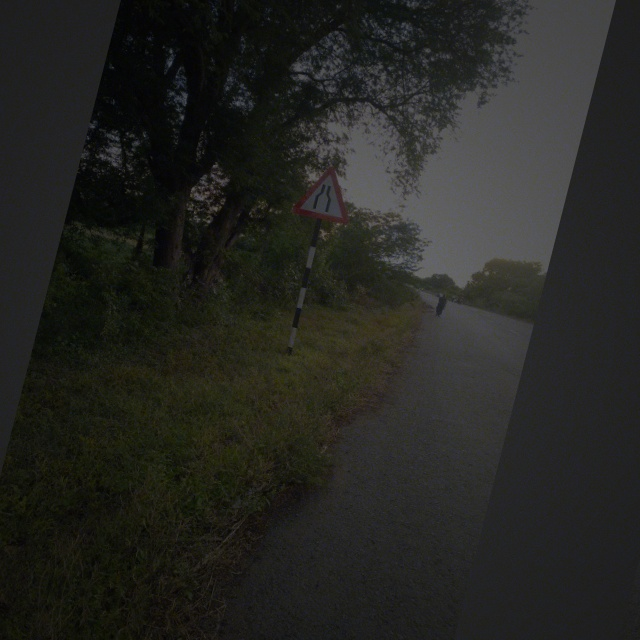Narrow_Road_Ahead: (289, 156, 359, 226)
